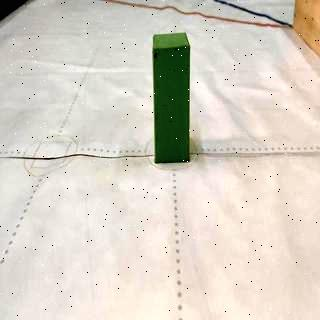greenbox: (152, 33, 193, 165)
